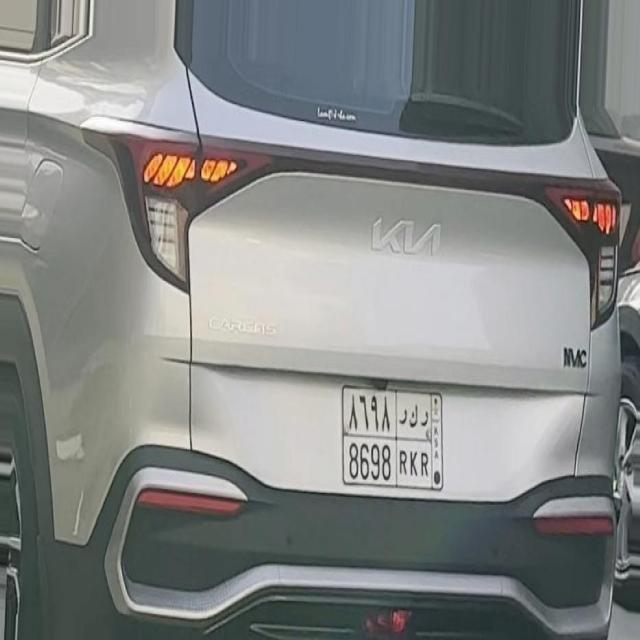Car-plate: (331, 378, 455, 506)
